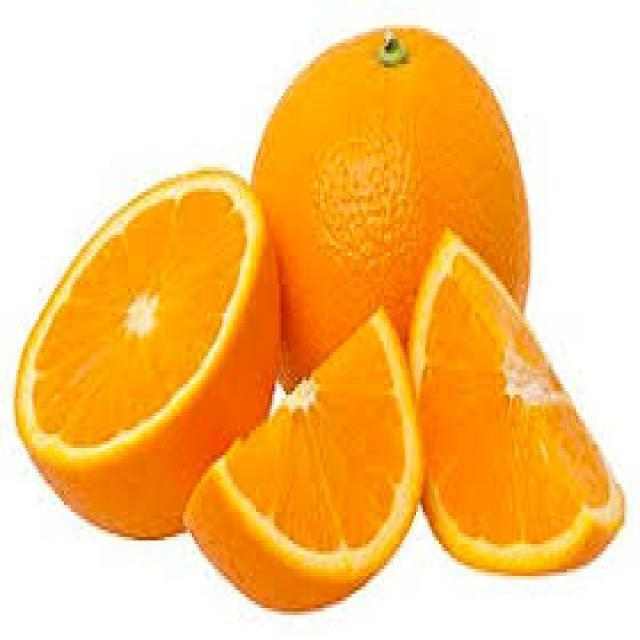non-mango: (249, 24, 531, 388), (13, 166, 282, 540), (406, 227, 626, 575), (182, 306, 422, 612)
